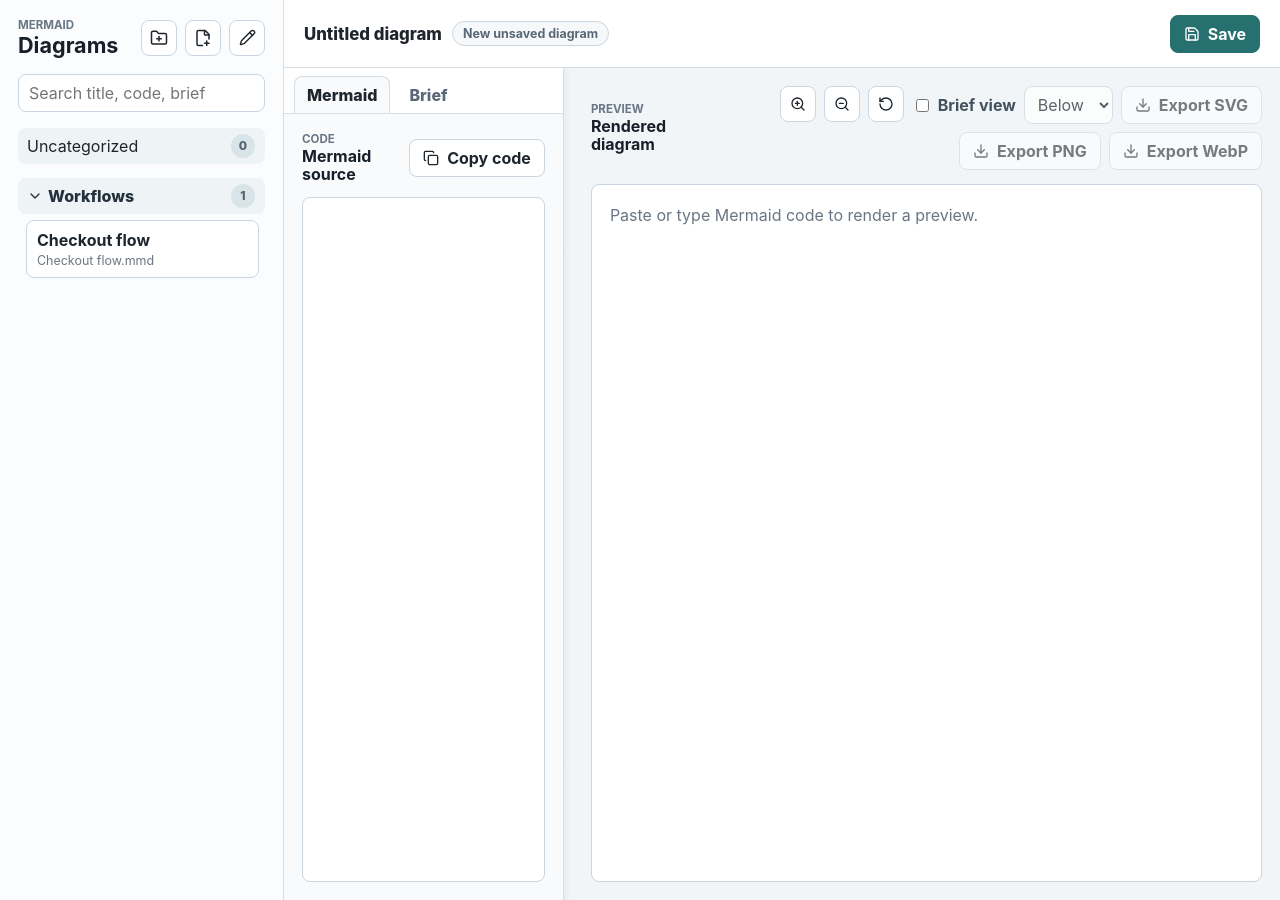
Test: App › collapses and expands a sidebar section
Expected: the button "Checkout flow Checkout flow.mmd" is shown, [26,220,259,278]
Click the button with aria-label "collapse Workflows" at {"x": 126, "y": 196}, box [27,186,225,206]
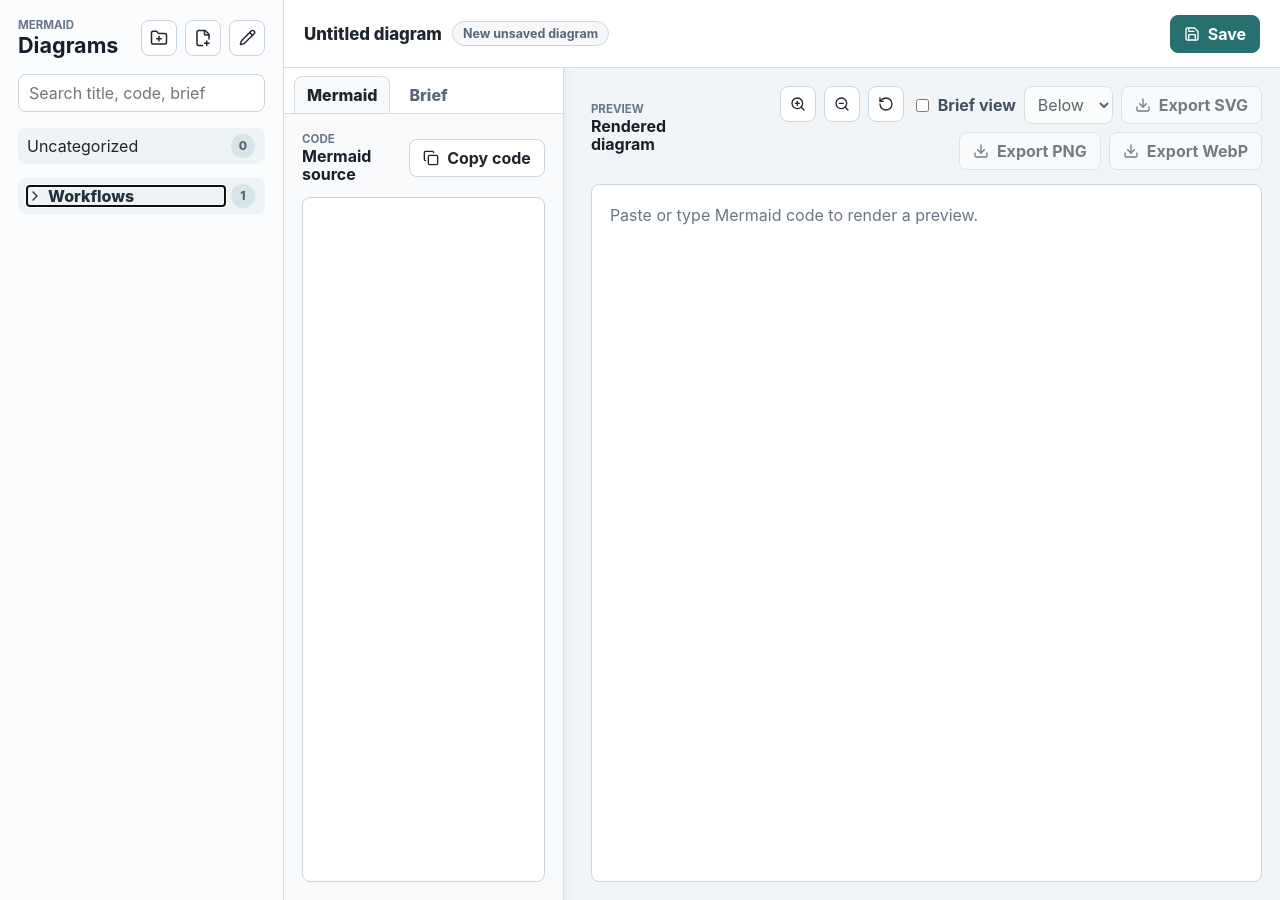
Expected: the button "Checkout flow" is gone
Click the button with aria-label "expand Workflows" at {"x": 126, "y": 196}, box [27,186,225,206]
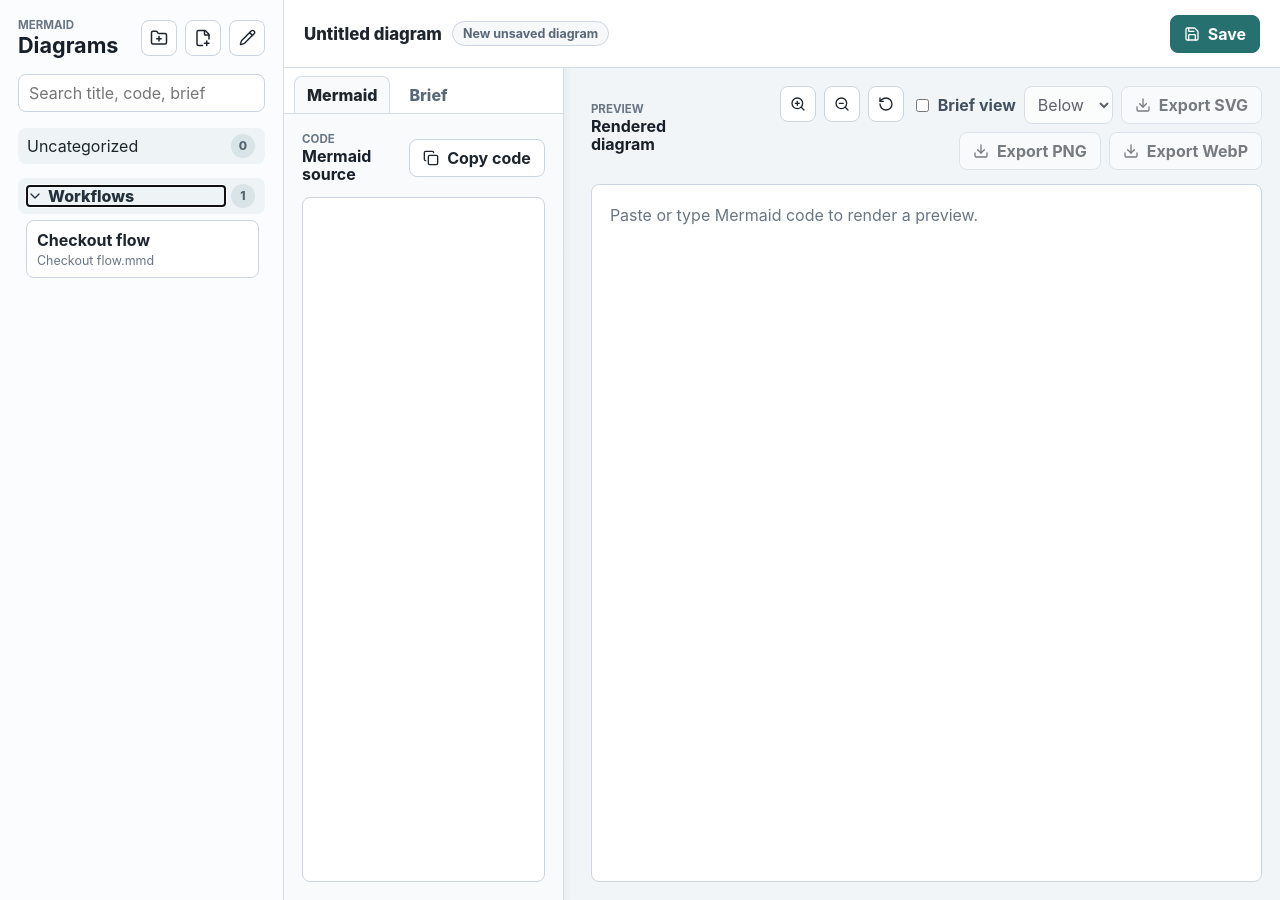
Expected: the button "Checkout flow Checkout flow.mmd" is shown, [26,220,259,278]
